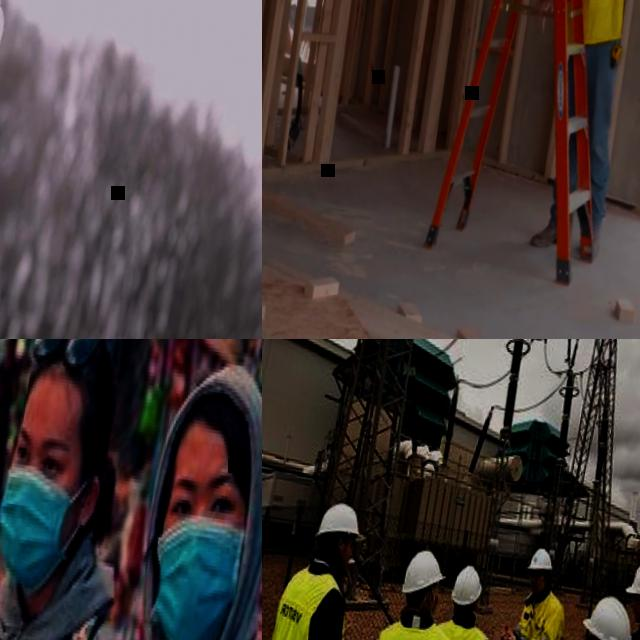Hardhat: (578, 589, 640, 640), (401, 542, 451, 601), (317, 499, 371, 544), (450, 560, 486, 612), (527, 542, 556, 570), (625, 554, 640, 601)
Mask: (139, 509, 249, 640), (0, 465, 77, 601)
NO-Hardhat: (171, 355, 262, 472), (22, 339, 126, 433)
NO-Mask: (336, 550, 353, 571), (532, 577, 551, 595), (630, 600, 640, 620)
NO-Safety Vest: (0, 355, 19, 432)
Person: (0, 339, 186, 640), (93, 349, 262, 640), (521, 0, 640, 262), (262, 490, 373, 640), (348, 539, 475, 640), (477, 536, 579, 640), (410, 554, 504, 640), (532, 584, 640, 640), (0, 339, 26, 532)
Safety Vest: (262, 560, 356, 640), (511, 586, 571, 640)
